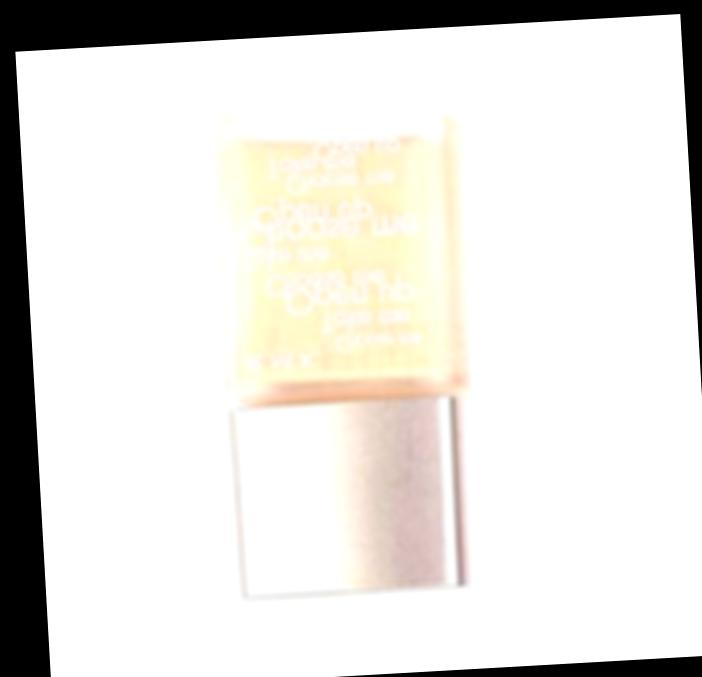cosmetic: (205, 97, 494, 602)
